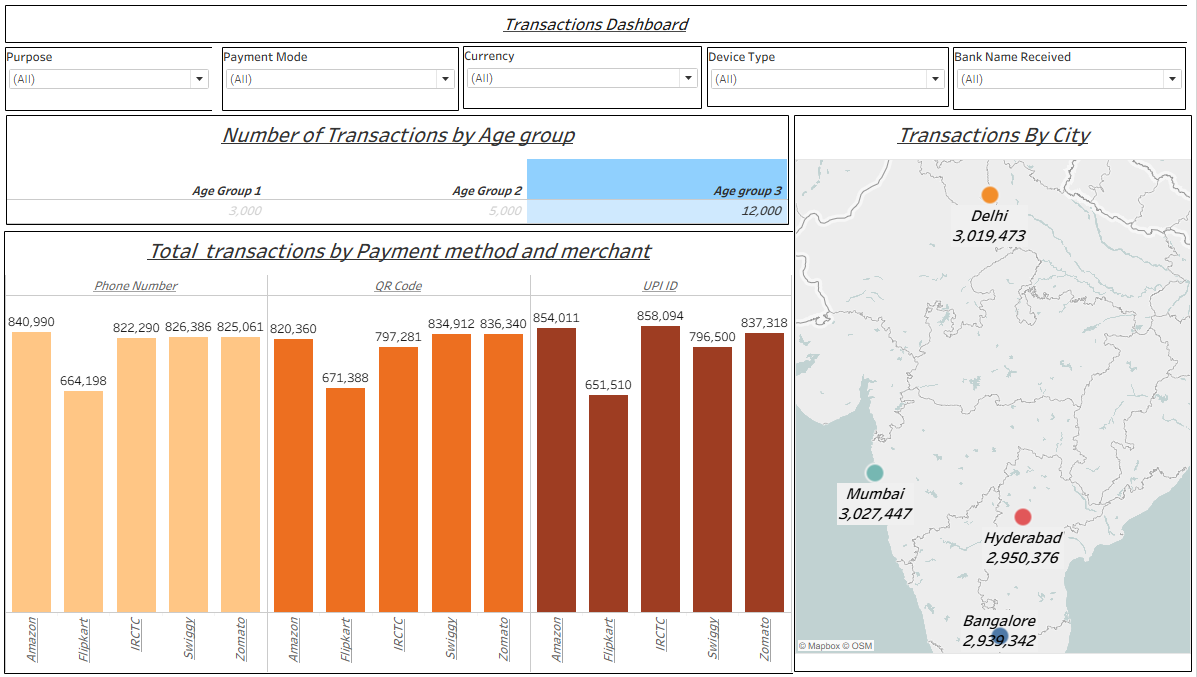

What the dashboard file says about the page in this screenshot:
{"tool":"tableau","page":{"name":"Dashboard 1","canvas":[1000,1000],"units":"permille","ordinal":0},"visuals":[{"type":"text","box":[4.1,20.2,988.8,55.1]},{"type":"filter","title":"Sheet 3","param":"[federated.1l0f1ht17aafq3131ry4q08bqs13].[none:Currency:nk]","box":[387.3,79,200,90.1]},{"type":"filter","title":"Sheet 3","param":"[federated.1l0f1ht17aafq3131ry4q08bqs13].[none:Purpose:nk]","box":[4.1,80.9,173.6,91.9]},{"type":"filter","title":"Sheet 3","param":"[federated.1l0f1ht17aafq3131ry4q08bqs13].[none:PaymentMode:nk]","box":[185.4,80.9,198.1,91.9]},{"type":"filter","title":"Sheet 3","param":"[federated.1l0f1ht17aafq3131ry4q08bqs13].[none:DeviceType:nk]","box":[591.2,80.9,202,86.4]},{"type":"filter","title":"Sheet 3","param":"[federated.1l0f1ht17aafq3131ry4q08bqs13].[none:BankNameReceived:nk]","box":[797.1,80.9,195.1,90.1]},{"type":"worksheet","title":"Age group","mark":"Automatic","cols":["Calculation_0476381963542528"],"box":[5.1,178.3,654.8,158.1]},{"type":"worksheet","title":"Map Visual","mark":"Automatic","box":[664,178.3,333,797.8]},{"type":"worksheet","title":"Sheet 3","mark":"Automatic","rows":["Amount"],"cols":["PaymentMethod","MerchantName"],"box":[2.9,343.8,660.5,634.2]}]}

Visuals, with their boxes on the dashboard's canvas, which has no fixed pixel size, in thousandths of its width and height (x1, y1, x2, y2). These are canvas units, not pixel positions in the 1197x677 screenshot, which may show the page scaled, cropped or inside an application window:
text: bbox(4, 20, 993, 75)
"Sheet 3" filter: bbox(387, 79, 587, 169)
"Sheet 3" filter: bbox(4, 81, 178, 173)
"Sheet 3" filter: bbox(185, 81, 384, 173)
"Sheet 3" filter: bbox(591, 81, 793, 167)
"Sheet 3" filter: bbox(797, 81, 992, 171)
"Age group" worksheet: bbox(5, 178, 660, 336)
"Map Visual" worksheet: bbox(664, 178, 997, 976)
"Sheet 3" worksheet: bbox(3, 344, 663, 978)
